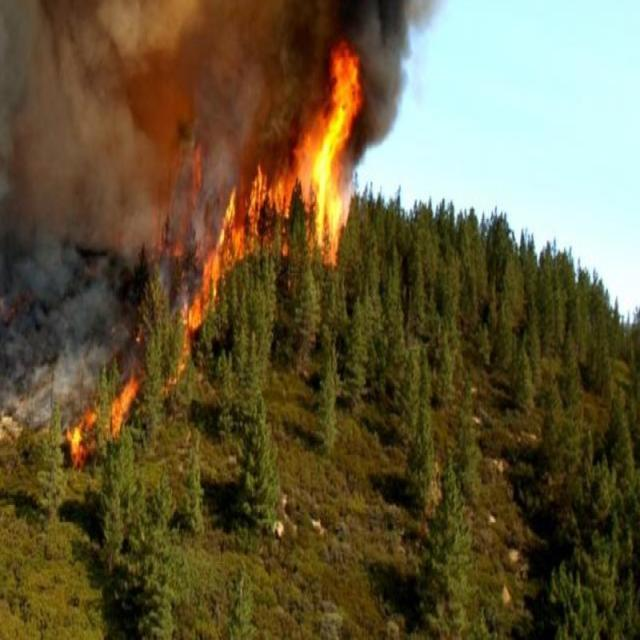Fire: (174, 46, 360, 372), (213, 164, 269, 300), (68, 381, 136, 464), (297, 222, 347, 278), (112, 364, 141, 428), (182, 293, 208, 354), (159, 354, 183, 416), (226, 206, 244, 268), (66, 421, 86, 459), (274, 228, 291, 260), (134, 322, 146, 356)
Smoke: (7, 11, 430, 452), (12, 340, 100, 424), (53, 258, 116, 352), (8, 347, 59, 437)
